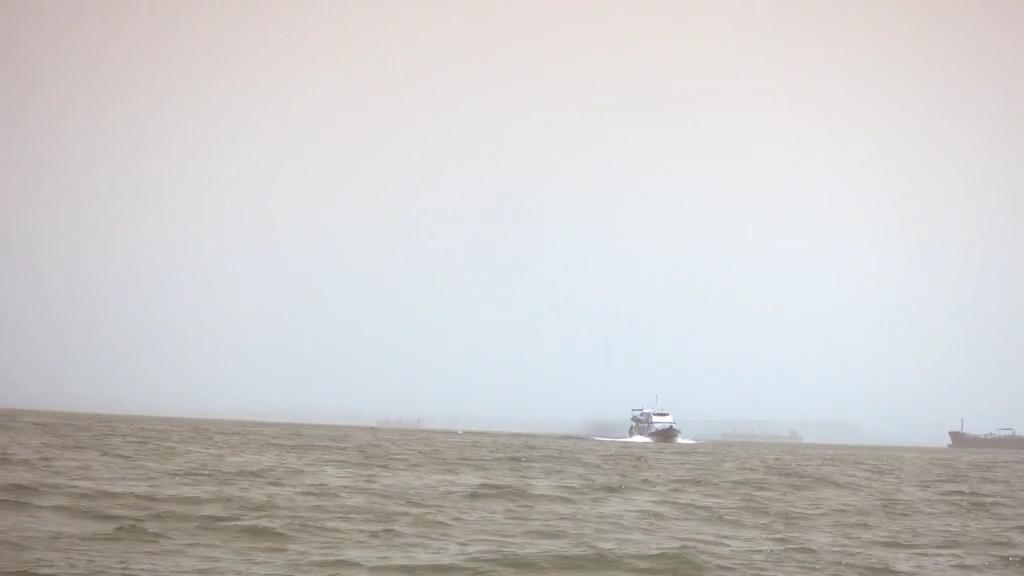PassengerShip: (625, 399, 683, 447)
